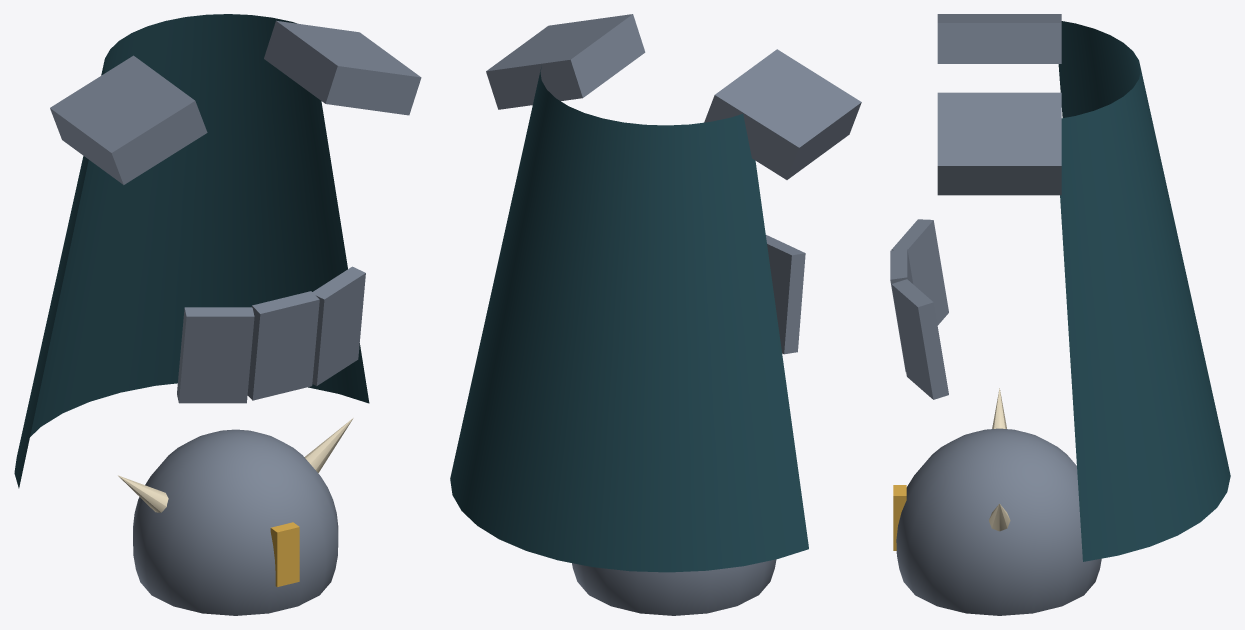
Rendered from armor_look6.glb.
3 renders of one model, left to right at view 1: azimuth 30°, elevation 25°; view 2: azimuth 150°, elevation 25°; view 3: azimuth 270°, elevation 25°, orthographic.
Visible parts, largest first — view 1: m2_ow85_, m6_ow85_, m0_ow85_, m1_ow85_, m3_ow85_, m4_ow85_, m5_ow85_, m9_ow85_, m8_ow85_, m7_ow85_; view 2: m2_ow85_, m0_ow85_, m1_ow85_, m6_ow85_, m3_ow85_; view 3: m2_ow85_, m6_ow85_, m1_ow85_, m0_ow85_, m5_ow85_, m3_ow85_, m4_ow85_, m9_ow85_.
Boxes of the visible parts, <box> form: m2_ow85_: <box>14,14,369,488</box>; m6_ow85_: <box>133,429,338,615</box>; m0_ow85_: <box>50,55,207,184</box>; m1_ow85_: <box>264,20,421,115</box>; m3_ow85_: <box>177,307,254,403</box>; m4_ow85_: <box>247,291,319,400</box>; m5_ow85_: <box>312,266,365,385</box>; m9_ow85_: <box>270,522,299,587</box>; m8_ow85_: <box>304,418,353,473</box>; m7_ow85_: <box>118,475,168,512</box>; m2_ow85_: <box>450,67,808,572</box>; m0_ow85_: <box>704,49,861,179</box>; m1_ow85_: <box>486,14,645,109</box>; m6_ow85_: <box>572,559,776,615</box>; m3_ow85_: <box>766,235,805,354</box>; m2_ow85_: <box>1058,21,1230,561</box>; m6_ow85_: <box>896,428,1101,615</box>; m1_ow85_: <box>937,92,1061,195</box>; m0_ow85_: <box>937,14,1061,63</box>; m5_ow85_: <box>891,279,948,399</box>; m3_ow85_: <box>891,219,948,325</box>; m4_ow85_: <box>890,248,913,371</box>; m9_ow85_: <box>893,485,906,550</box>.
Size of the model in its own units: 1.18 by 1.65 by 0.9871.
